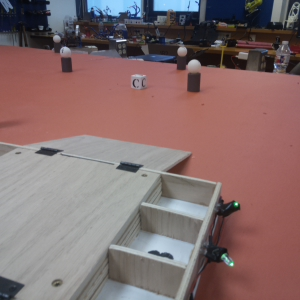obstacle: (57, 47, 74, 74), (187, 59, 200, 89), (176, 46, 187, 68), (52, 34, 60, 51)
side: (115, 176, 245, 300)
slope: (28, 122, 191, 175)
